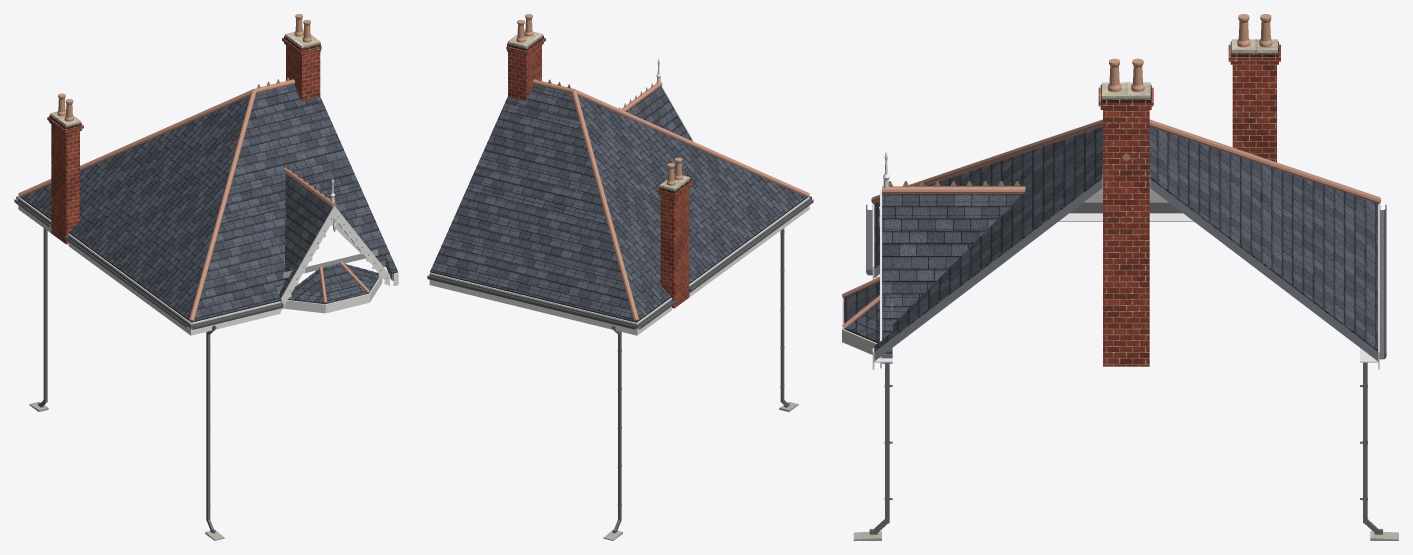
File: roof_l.glb
3 views of the same model, side by side, from view 1: azimuth 30°, elevation 25°; view 2: azimuth 150°, elevation 25°; view 3: azimuth 270°, elevation 25° (orthographic). The views are drawn at different scales.
Parts seen in each view (by area): view 1: roof_l_shingles, roof_l_brick, roof_l_trim, roof_l_gutter, roof_l_ridge_c, roof_l_clay, roof_l_stone_c; view 2: roof_l_shingles, roof_l_brick, roof_l_gutter, roof_l_ridge_c, roof_l_trim, roof_l_clay, roof_l_stone_c; view 3: roof_l_shingles, roof_l_brick, roof_l_slate_c, roof_l_ridge_c, roof_l_gutter, roof_l_trim, roof_l_clay, roof_l_stone_c.
Boxes of the visible parts, <box> form: roof_l_shingles: <box>21,84,397,322</box>; roof_l_brick: <box>47,38,321,244</box>; roof_l_trim: <box>18,178,398,335</box>; roof_l_gutter: <box>14,196,283,533</box>; roof_l_ridge_c: <box>18,77,369,322</box>; roof_l_clay: <box>57,14,311,121</box>; roof_l_stone_c: <box>50,29,320,126</box>; roof_l_shingles: <box>430,84,806,322</box>; roof_l_brick: <box>506,38,693,308</box>; roof_l_gutter: <box>427,196,813,533</box>; roof_l_ridge_c: <box>533,77,809,322</box>; roof_l_trim: <box>429,58,809,335</box>; roof_l_clay: <box>516,14,683,185</box>; roof_l_stone_c: <box>507,29,690,190</box>; roof_l_shingles: <box>843,126,1377,353</box>; roof_l_brick: <box>1098,44,1280,366</box>; roof_l_slate_c: <box>874,165,1378,363</box>; roof_l_ridge_c: <box>842,119,1381,328</box>; roof_l_gutter: <box>866,204,1386,534</box>; roof_l_trim: <box>842,152,1379,369</box>; roof_l_clay: <box>1108,14,1272,92</box>; roof_l_stone_c: <box>1102,39,1277,98</box>.
Size of the model in its own units: 6.93 by 12.8 by 10.72.
Materials: 12 (6 with a texture image).
